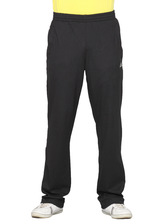clothoes: (44, 11, 132, 205)
shoes: (97, 200, 136, 223), (28, 203, 67, 222)
